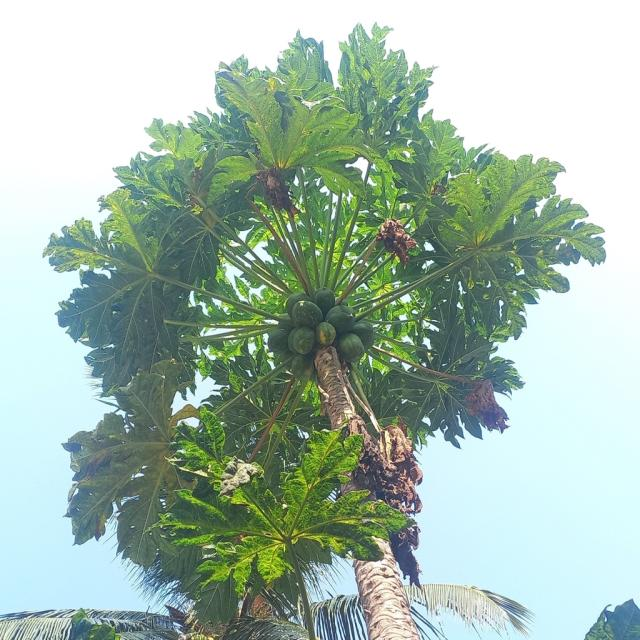Papaya-Tree: (44, 36, 612, 640)
